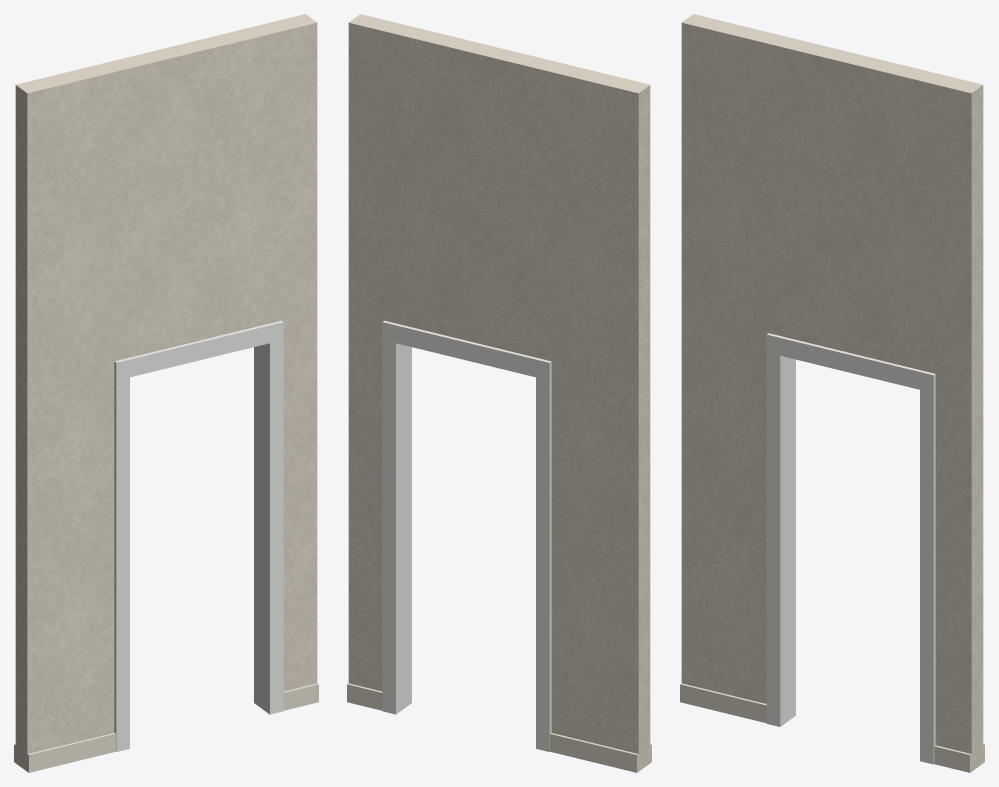
The model's file is interior_wall_end_doorway_tall.glb.
3 views of the same model, side by side, from view 1: azimuth 30°, elevation 25°; view 2: azimuth 150°, elevation 25°; view 3: azimuth 330°, elevation 25° (orthographic).
Parts seen in each view (by area): view 1: interior_wall_end_doorway_tall_plaster, interior_wall_end_doorway_tall_frame, interior_wall_end_doorway_tall_trim; view 2: interior_wall_end_doorway_tall_plaster, interior_wall_end_doorway_tall_frame, interior_wall_end_doorway_tall_trim; view 3: interior_wall_end_doorway_tall_plaster, interior_wall_end_doorway_tall_frame, interior_wall_end_doorway_tall_trim.
Boxes of the visible parts, left/top/right/bottom form: interior_wall_end_doorway_tall_plaster: left=15, top=14, right=317, bottom=771; interior_wall_end_doorway_tall_frame: left=114, top=320, right=283, bottom=751; interior_wall_end_doorway_tall_trim: left=14, top=683, right=318, bottom=772; interior_wall_end_doorway_tall_plaster: left=348, top=14, right=650, bottom=771; interior_wall_end_doorway_tall_frame: left=382, top=320, right=551, bottom=751; interior_wall_end_doorway_tall_trim: left=347, top=683, right=651, bottom=772; interior_wall_end_doorway_tall_plaster: left=681, top=14, right=983, bottom=771; interior_wall_end_doorway_tall_frame: left=766, top=333, right=935, bottom=764; interior_wall_end_doorway_tall_trim: left=680, top=683, right=984, bottom=772.
Bounding box in the file's own units: 1.7 × 3.8 × 0.16.
Materials: 3 (1 with a texture image).
